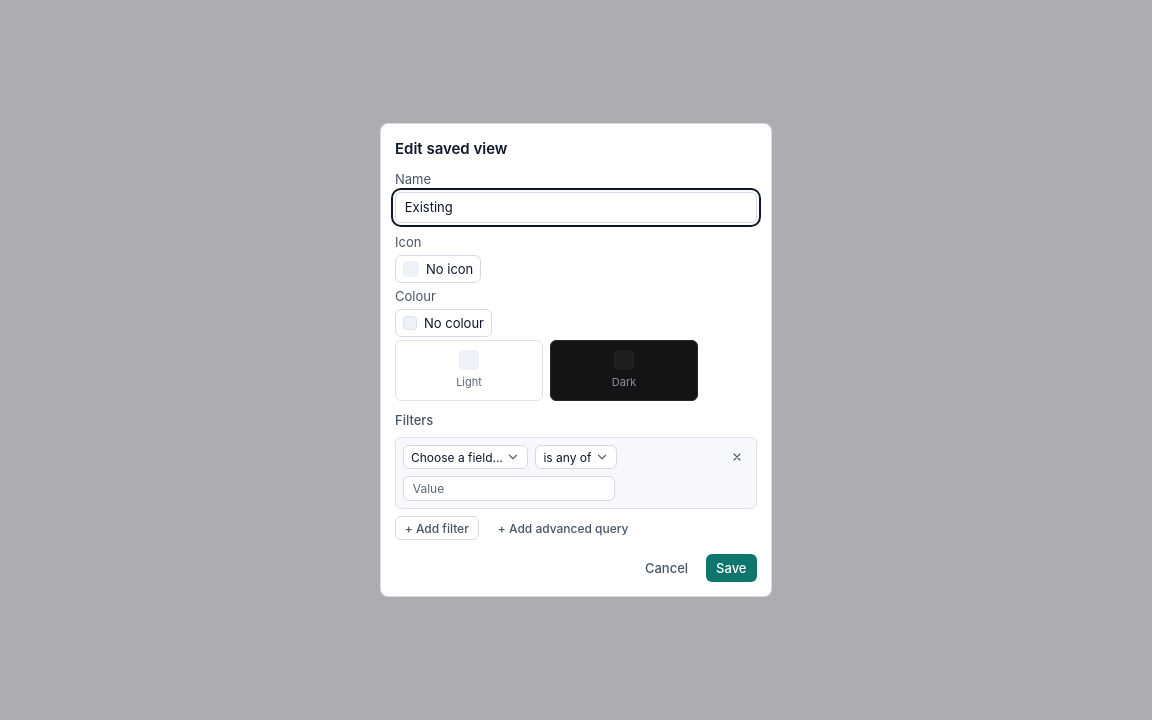
ViewFormDialog — a taken name is refused (B21) › a rename to another view's name shows the error and does not PUT
Step 1. Replace the text in the field with test id "view-form-name" with "overdue" → point(576, 207), box left=395, top=192, right=757, bottom=223
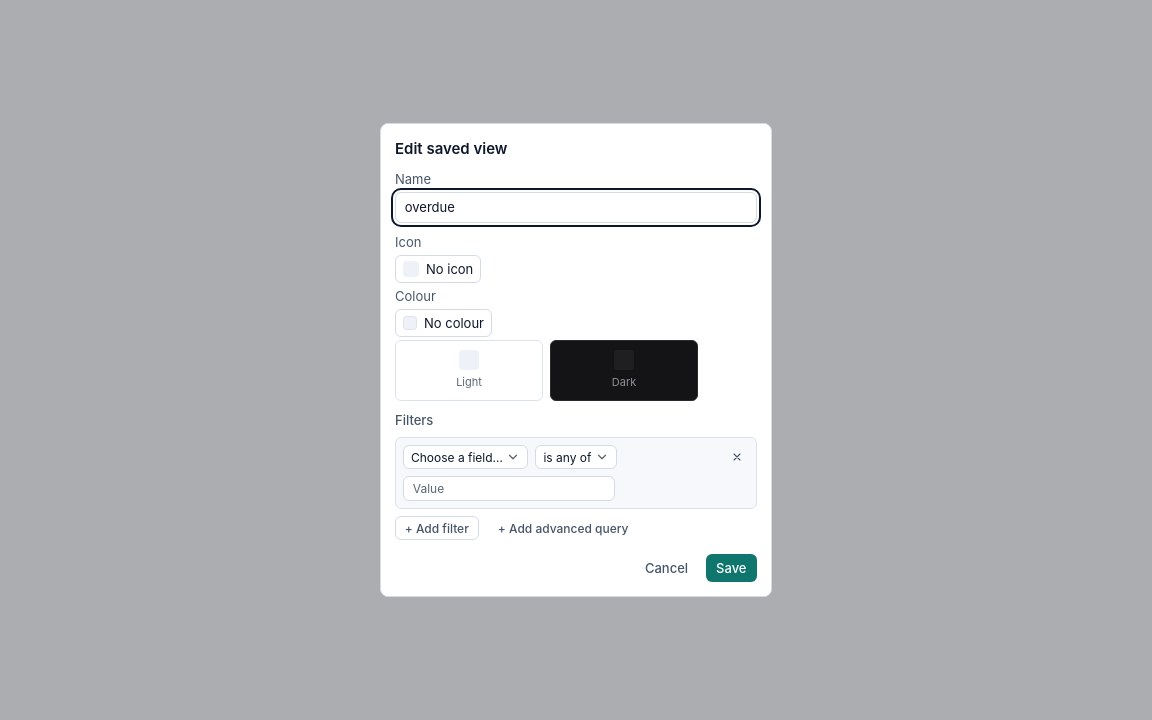
Step 2. Click the button with test id "view-form-save" → point(731, 568), box left=706, top=554, right=757, bottom=582
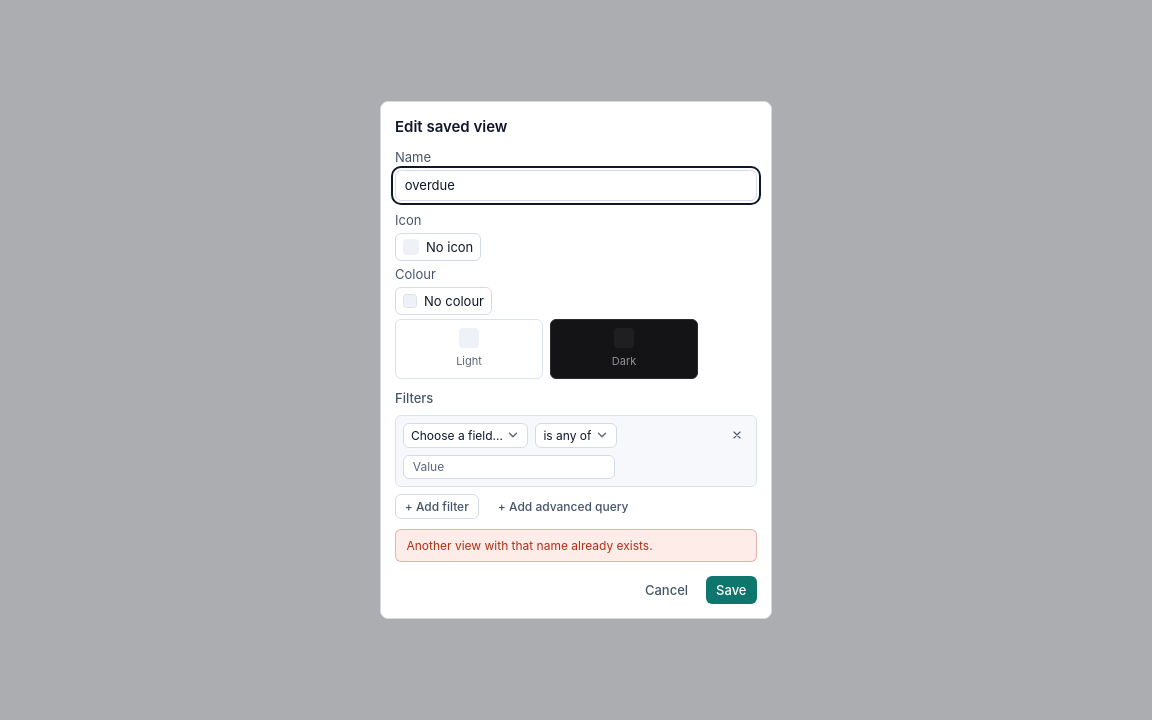
Check: the message with test id "view-form-name-taken" reads "Another view with that name already exists.", box left=406, top=538, right=653, bottom=553
